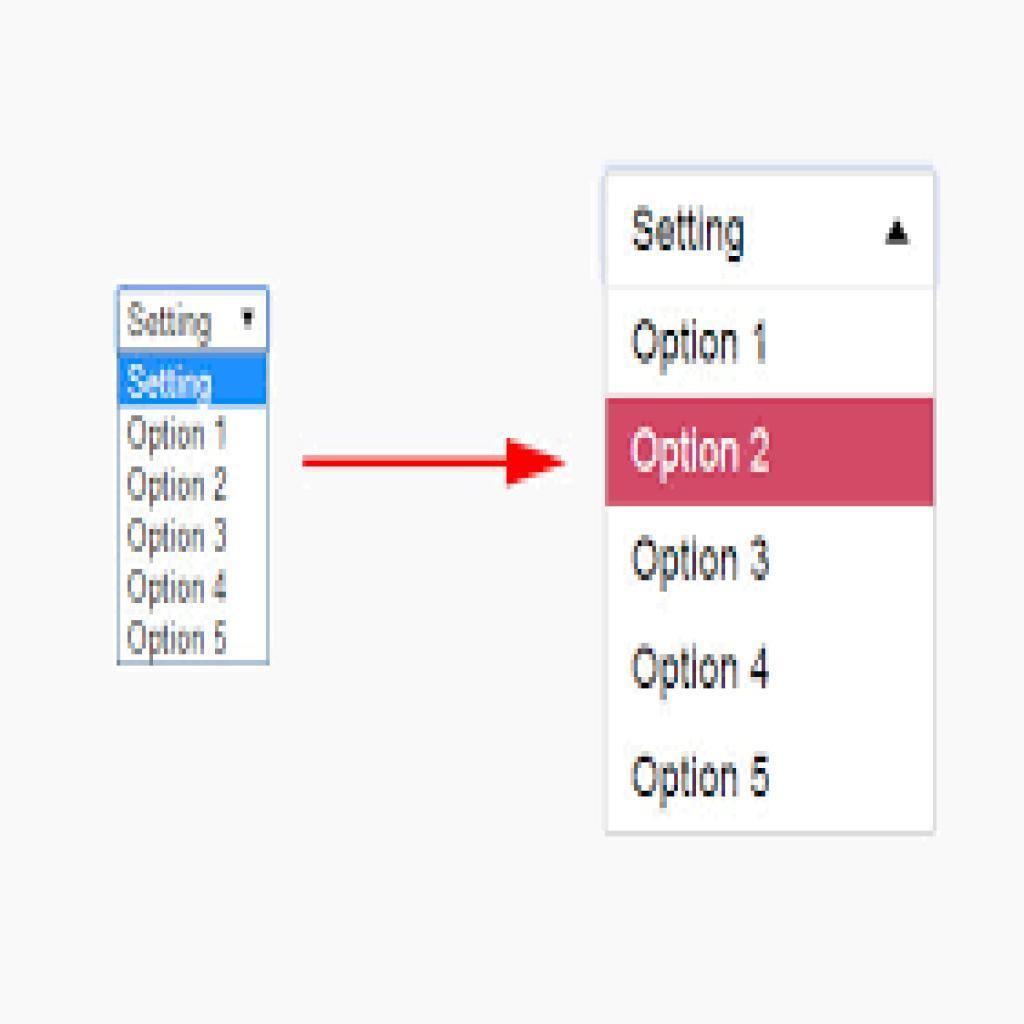dropdown: (603, 173, 936, 285), (115, 290, 269, 350)
